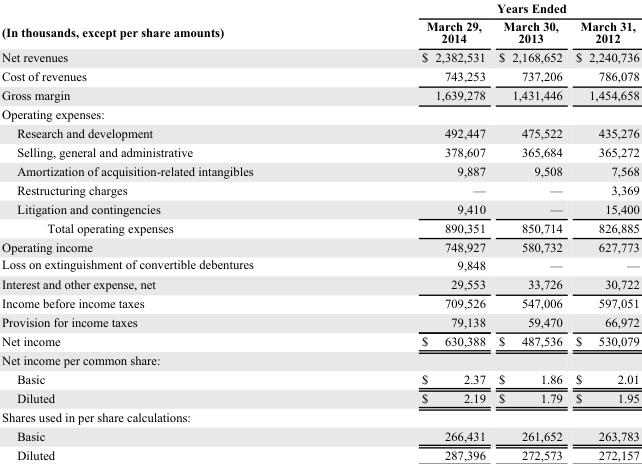table: (1, 0, 638, 461)
table column: (1, 0, 337, 461), (337, 0, 491, 461), (491, 0, 568, 461), (568, 0, 638, 461)
table column header: (1, 0, 638, 47)
table projected row header: (1, 104, 638, 123), (1, 350, 638, 369), (1, 407, 638, 426)
table row: (1, 16, 638, 47), (1, 47, 638, 66), (1, 66, 638, 85), (1, 85, 638, 104), (1, 104, 638, 123), (1, 123, 638, 142), (1, 142, 638, 161), (1, 161, 638, 180), (1, 198, 638, 217), (1, 217, 638, 236), (1, 236, 638, 255), (1, 255, 638, 274), (1, 274, 638, 293), (1, 293, 638, 312), (1, 312, 638, 331), (1, 331, 638, 350), (1, 350, 638, 369), (1, 369, 638, 388), (1, 388, 638, 407), (1, 407, 638, 426), (1, 180, 638, 198), (1, 426, 638, 444), (1, 444, 638, 461), (1, 0, 638, 16)
table spanning cell: (1, 0, 337, 47), (337, 0, 638, 16)
